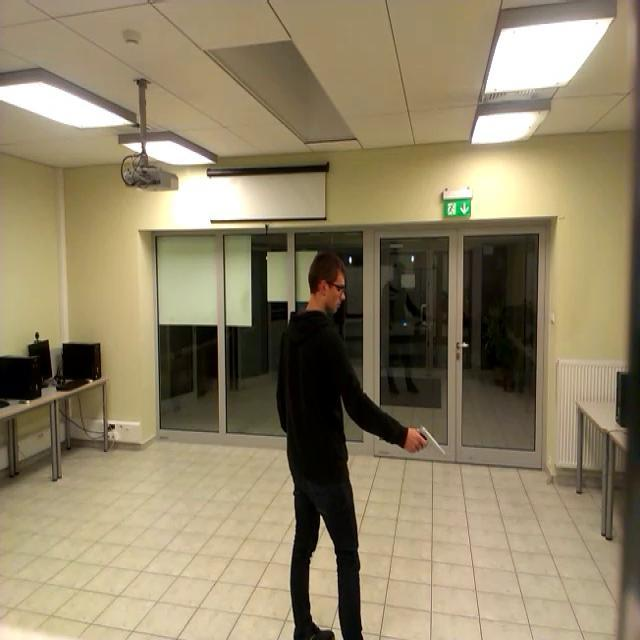Gun: (408, 419, 450, 464)
